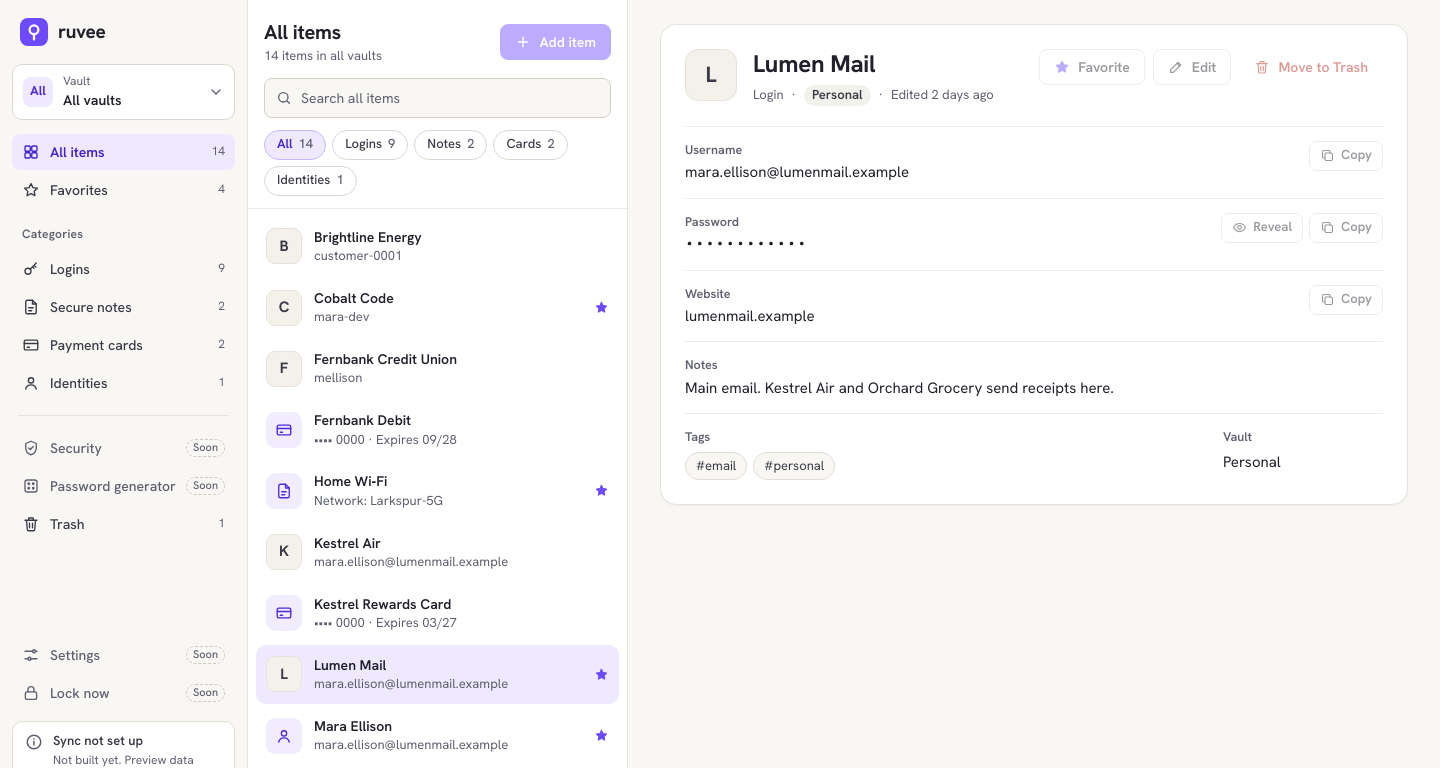
VaultShell › filters by search and announces the result count
Type "kes" into the search field named "Search items" at [438, 98], box [264,78,611,118]
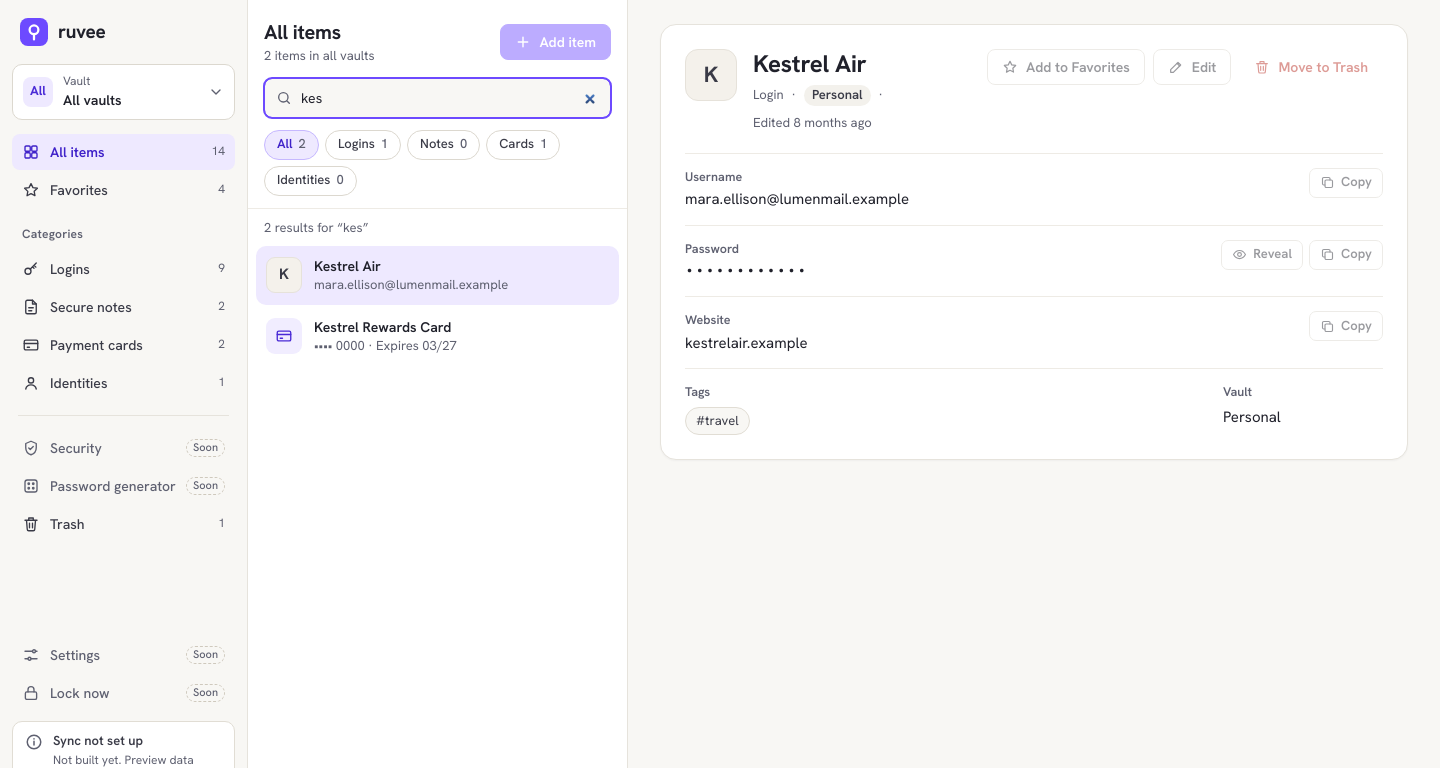
Expected: the message reads "2 results for “kes”", [264,219,368,236]
